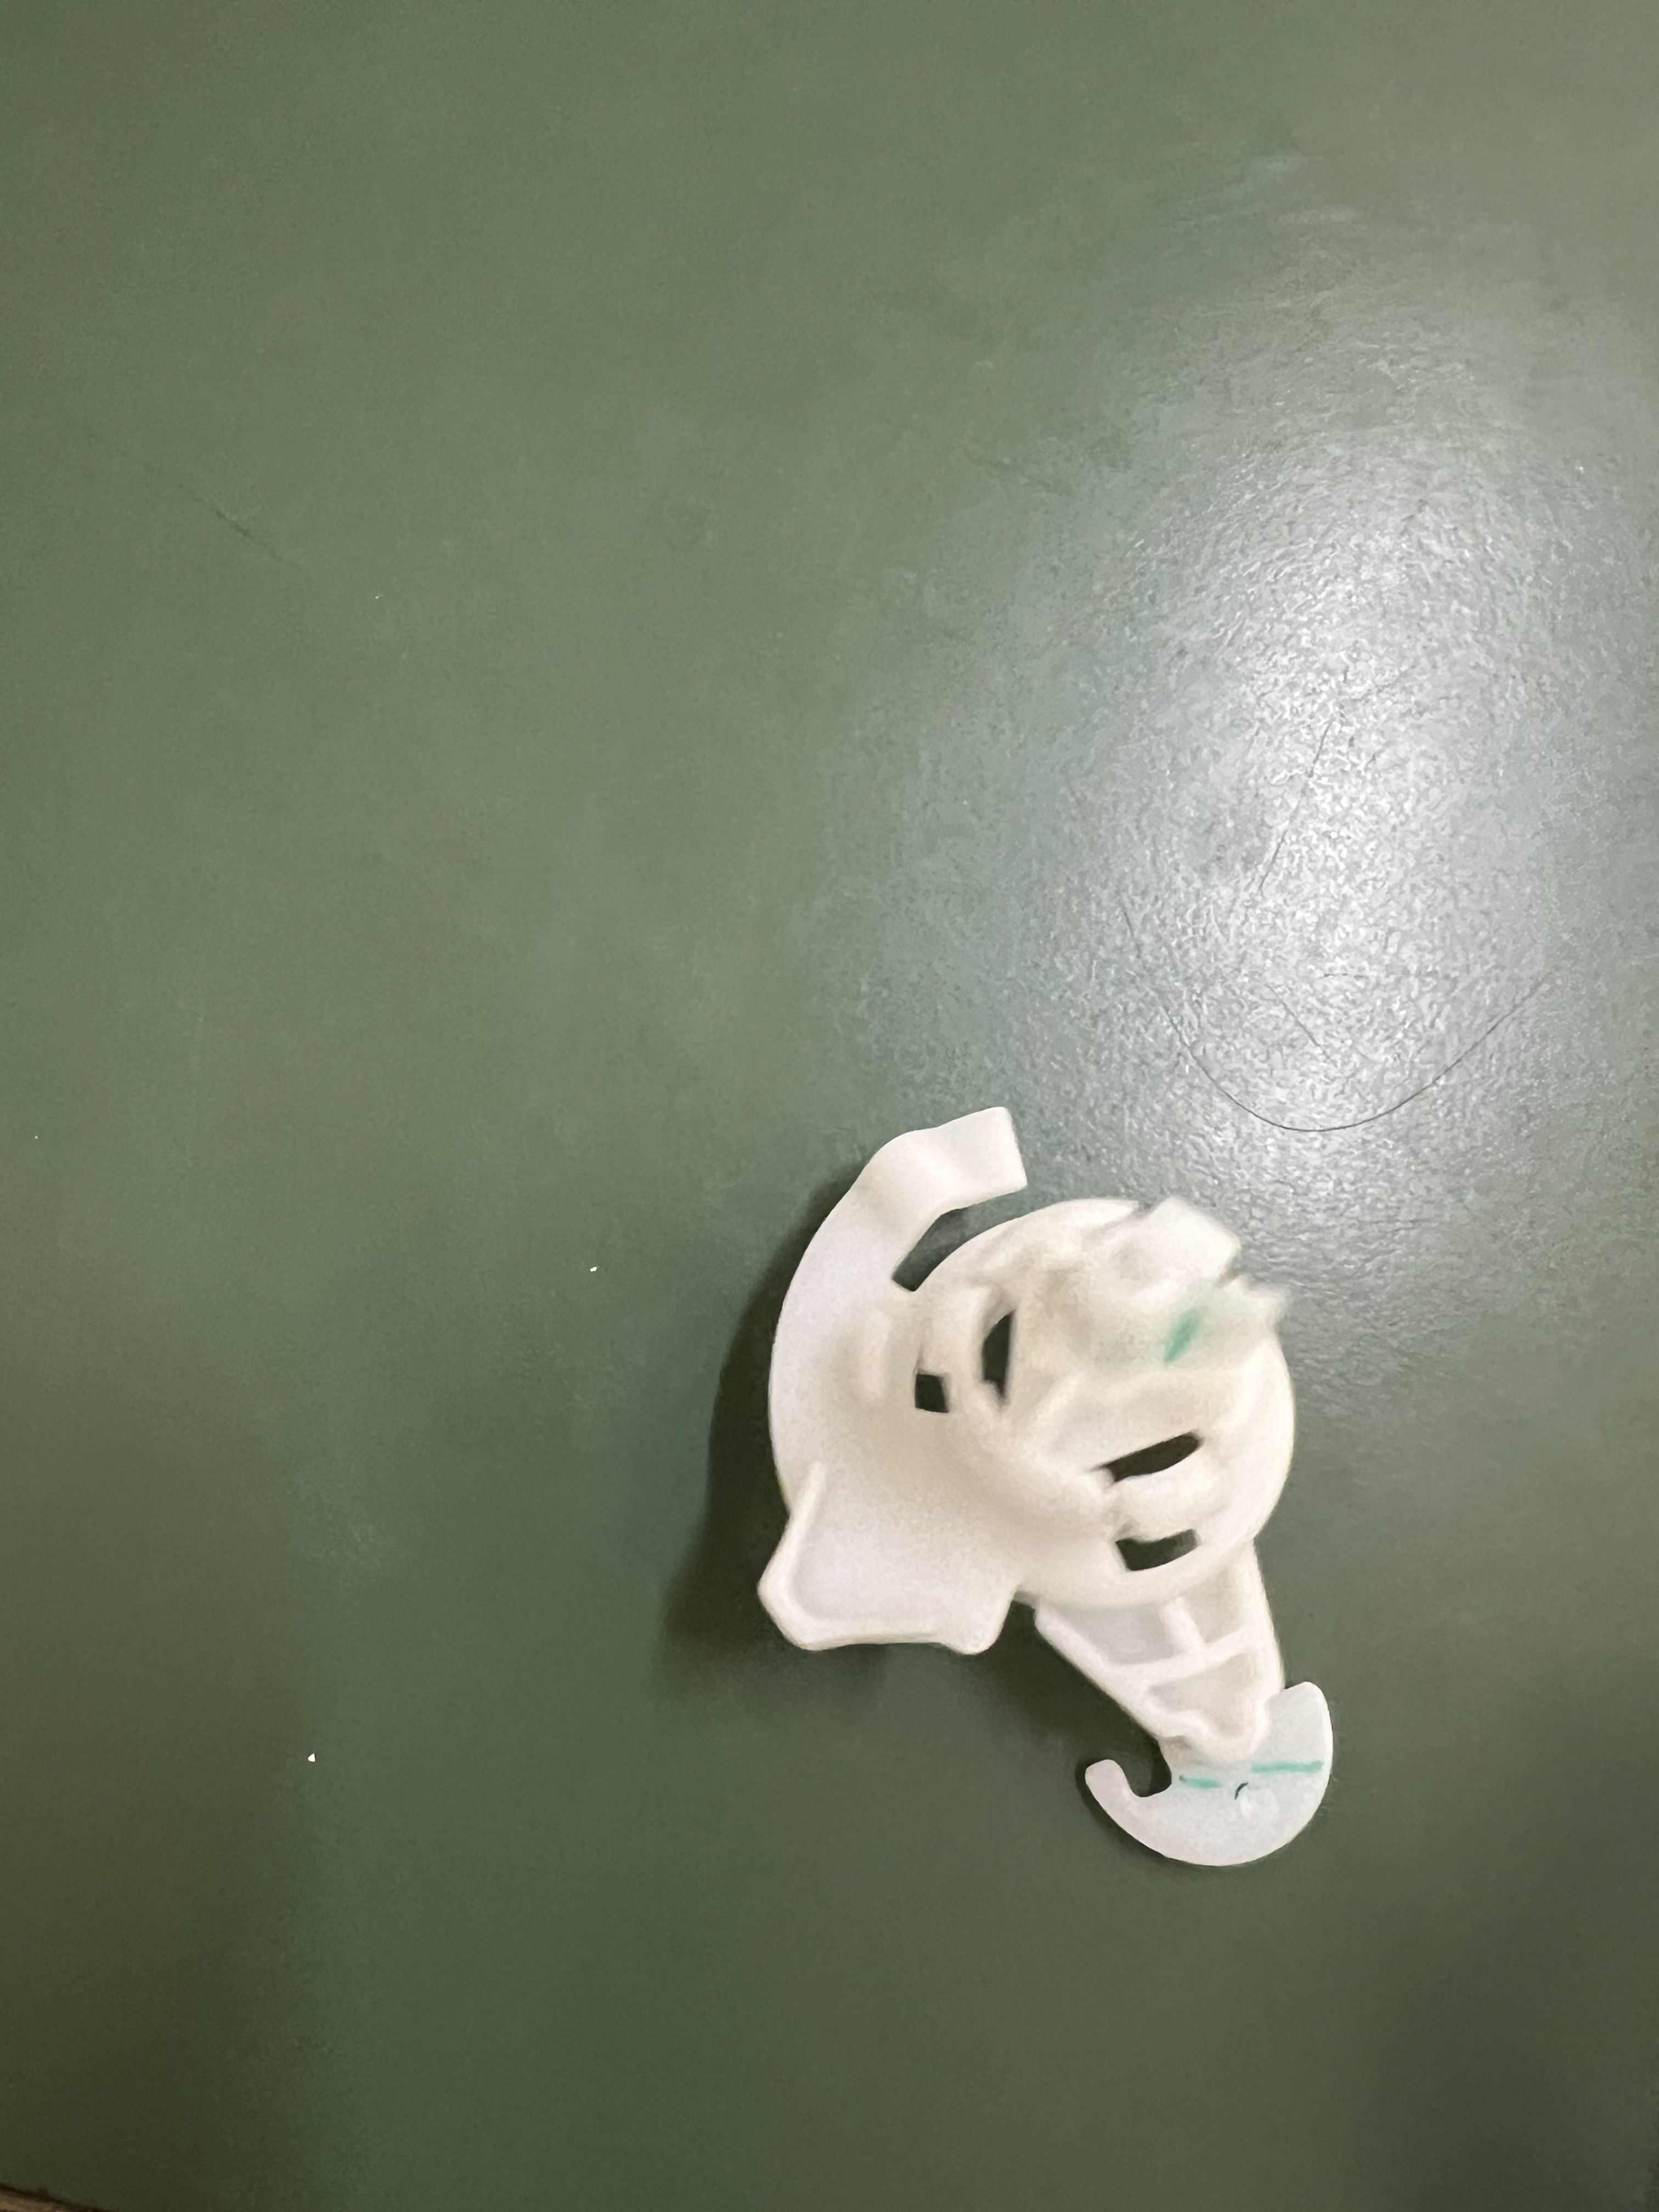drain_lever: (727, 1097, 1467, 1911)
